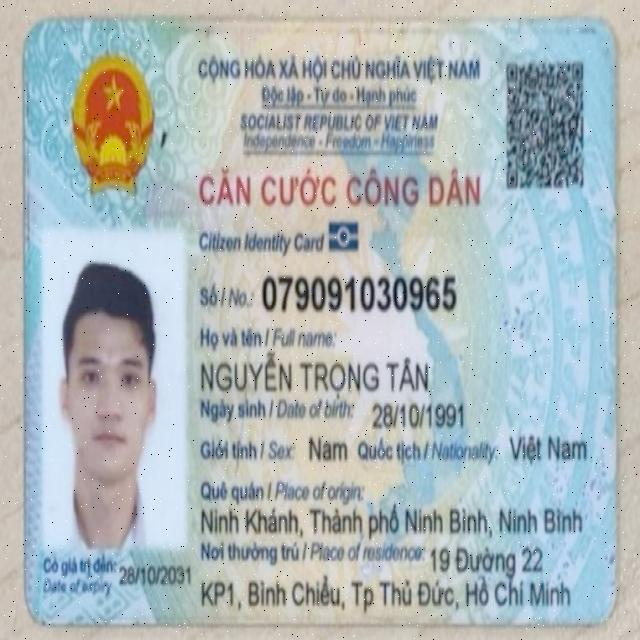current_place: (198, 572, 574, 616), (430, 534, 550, 582)
dob: (369, 399, 470, 434)
expire_date: (113, 561, 193, 588)
gender: (306, 433, 350, 466)
id: (262, 270, 458, 317)
name: (200, 349, 432, 400)
nationality: (507, 429, 592, 470)
origin_place: (196, 501, 586, 538)
